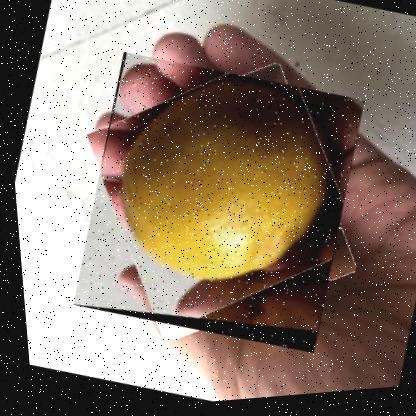orange: (51, 38, 382, 374)
